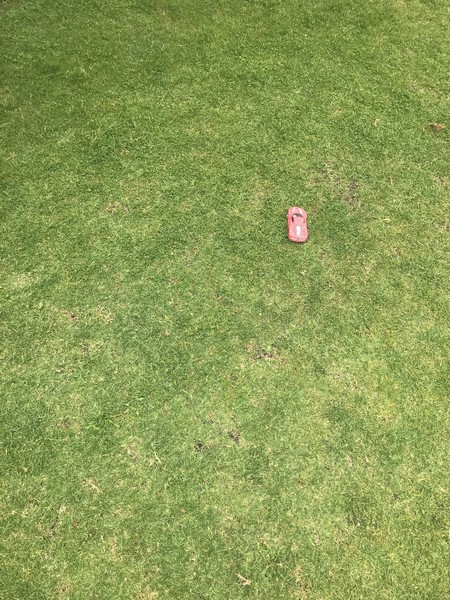RC: (285, 203, 310, 243)
